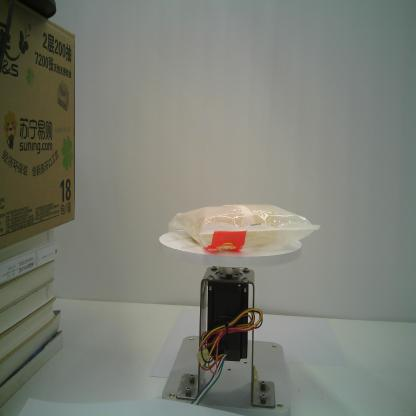Dessert: (167, 203, 320, 250)
